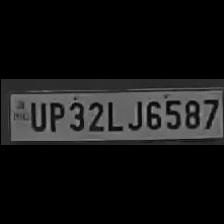2: (84, 98, 104, 132)
3: (64, 98, 84, 132)
5: (162, 96, 182, 130)
6: (142, 97, 160, 131)
7: (200, 96, 220, 130)
8: (182, 96, 200, 130)
J: (123, 97, 141, 131)
L: (104, 96, 122, 132)
P: (44, 99, 64, 133)
U: (25, 98, 45, 132)
